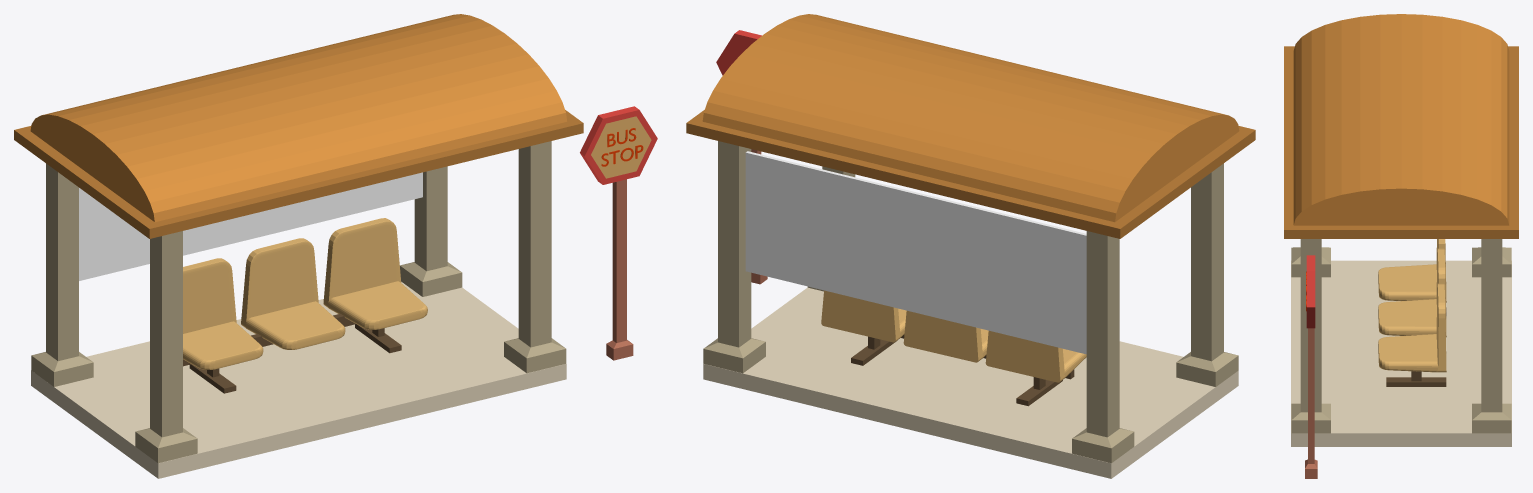
The model's file is stop01.fbx.
3 renders of one model, left to right at view 1: azimuth 30°, elevation 25°; view 2: azimuth 150°, elevation 25°; view 3: azimuth 270°, elevation 25°, orthographic. The views are drawn at different scales.
Parts seen in each view (by area): view 1: Cylinder, Cube.001, Cube.011, Cube.007, Cube.006, Cube.003, Cube.002, Cube.005, Cube.004, Circle.001, Cube.015, Cube.013; view 2: Cylinder, Cube.007, Cube.001, Cube.006, Cube.011, Cube.005, Cube.004, Cube.002, Cube.013, Circle.001; view 3: Cylinder, Cube.001, Cube.011, Cube.006, Cube.004, Cube.003, Cube.015, Circle.001, Cube.013, Cube.002, Cube.005.
Part boxes in pixels (x1,y1,x2,y2): Cylinder: [30, 14, 566, 222]; Cube.001: [31, 282, 566, 478]; Cube.011: [183, 218, 427, 369]; Cube.007: [79, 172, 422, 280]; Cube.006: [14, 110, 583, 238]; Cube.003: [504, 141, 566, 373]; Cube.002: [135, 231, 197, 463]; Cube.005: [31, 163, 93, 386]; Cube.004: [400, 166, 462, 296]; Circle.001: [580, 106, 657, 184]; Cube.015: [606, 179, 633, 360]; Cube.013: [183, 314, 401, 393]; Cylinder: [702, 14, 1239, 222]; Cube.007: [745, 151, 1086, 354]; Cube.001: [703, 287, 1238, 478]; Cube.006: [686, 110, 1255, 238]; Cube.011: [821, 290, 1086, 382]; Cube.005: [1072, 231, 1134, 463]; Cube.004: [703, 141, 765, 373]; Cube.002: [1176, 163, 1238, 386]; Cube.013: [851, 335, 1074, 406]; Circle.001: [716, 30, 761, 75]; Cylinder: [1293, 14, 1509, 225]; Cube.001: [1291, 260, 1511, 446]; Cube.011: [1378, 239, 1446, 372]; Cube.006: [1284, 46, 1518, 238]; Cube.004: [1472, 239, 1511, 433]; Cube.003: [1291, 239, 1330, 433]; Cube.015: [1305, 328, 1317, 478]; Circle.001: [1306, 255, 1315, 328]; Cube.013: [1386, 307, 1446, 386]; Cube.002: [1291, 247, 1330, 277]; Cube.005: [1472, 247, 1511, 277].
Bounding box in the file's own units: 547 × 300 × 246.
Materials: 14 (1 with a texture image).
